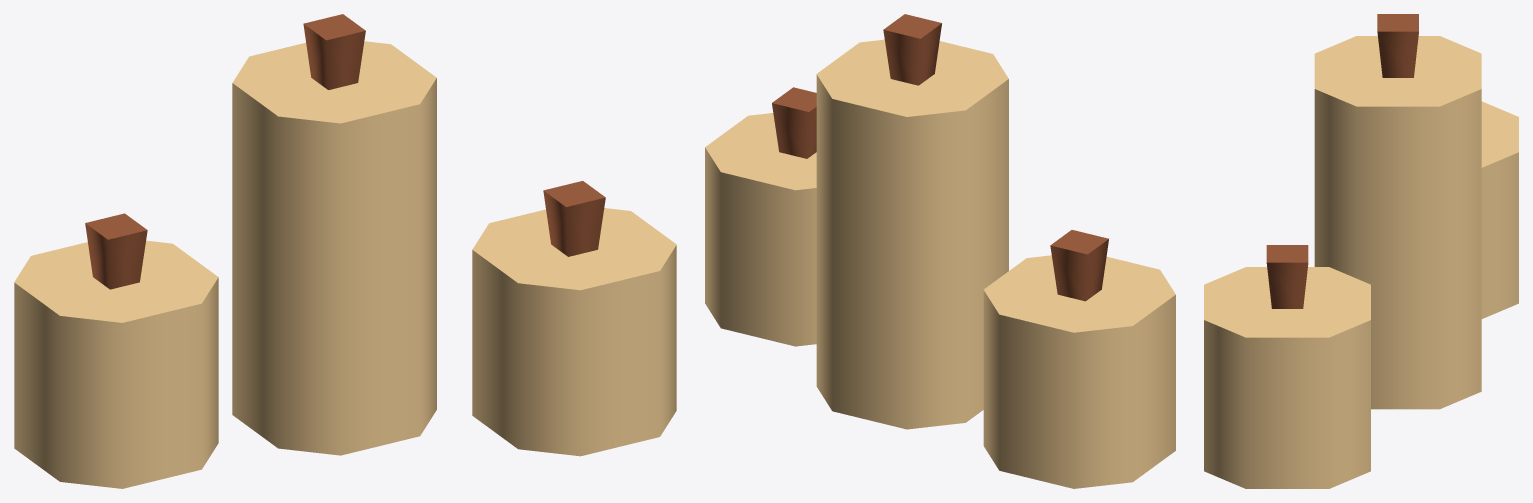
File: candleMultiple.dae
3 renders of one model, left to right at view 1: azimuth 30°, elevation 25°; view 2: azimuth 150°, elevation 25°; view 3: azimuth 270°, elevation 25°, orthographic. The views are drawn at different scales.
Visible parts, largest first — view 1: candleMultiple; view 2: candleMultiple; view 3: candleMultiple.
Part boxes in pixels (box(x1,y1,x2,y2)): candleMultiple: box(14, 14, 676, 488); candleMultiple: box(705, 14, 1175, 488); candleMultiple: box(1204, 14, 1518, 488).
Size of the model in its own units: 0.1688 by 0.116 by 0.0943.
